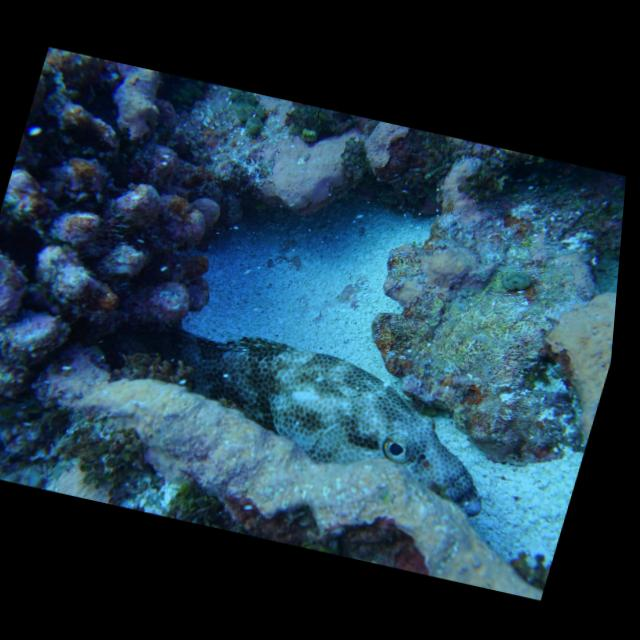Groupers: (119, 315, 523, 522)
